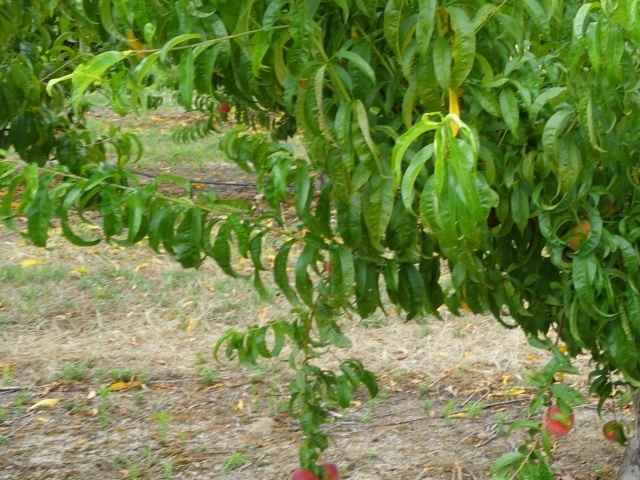peach: (539, 401, 578, 440), (601, 417, 630, 445), (314, 460, 343, 479), (287, 464, 320, 479)
